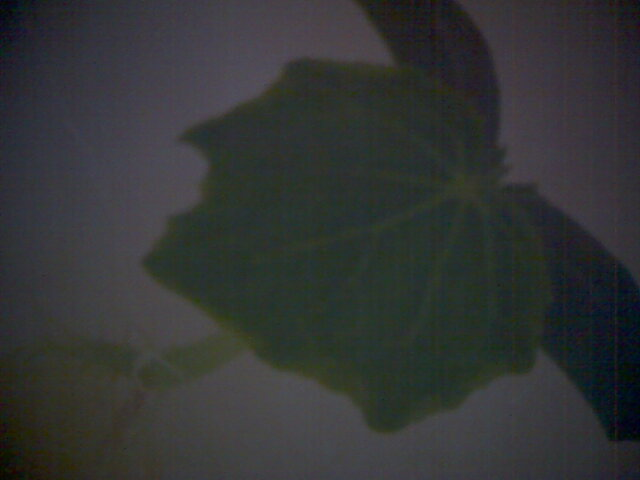lil_plant: (46, 19, 627, 448)
